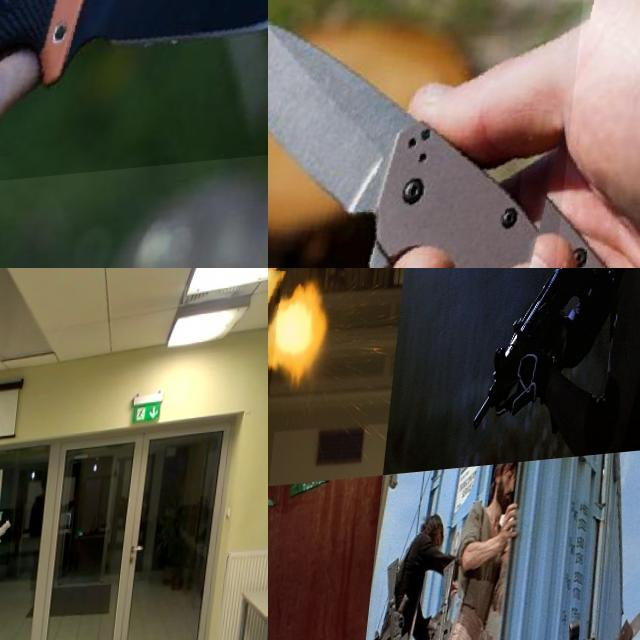-: (268, 0, 590, 268), (0, 0, 268, 193)
gun-knife-thesis - v11 Yolov5 augmented: (474, 268, 607, 455), (268, 268, 334, 407), (373, 551, 433, 640), (424, 547, 473, 640), (0, 514, 21, 573)
